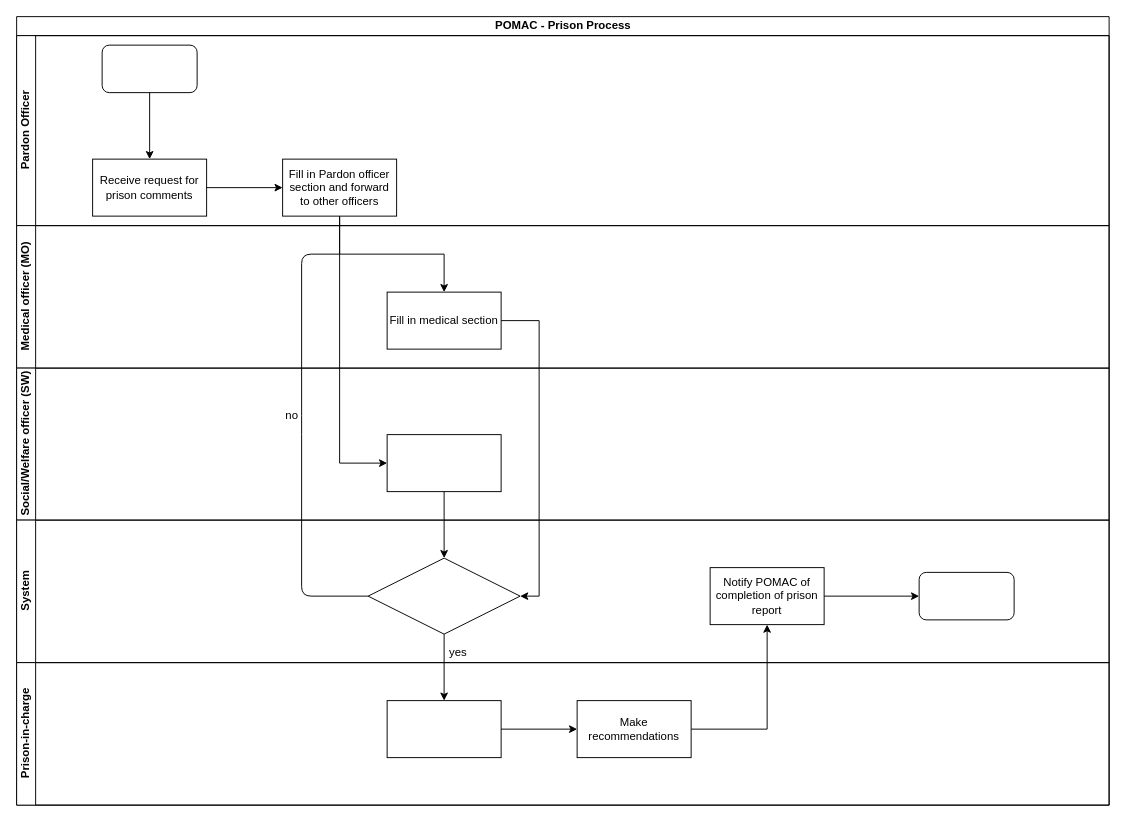
Image size: 1126x822. Some labels were removed from this diagram. Here are the shapes that lost their labels. From the top down, the centre of each, then its label:
pixel 149 68: Start
pixel 443 463: Fill in social/welfare section
pixel 443 595: Completed by MO & SW
pixel 966 595: End
pixel 443 729: Receive notification to make comments/ recommendations
